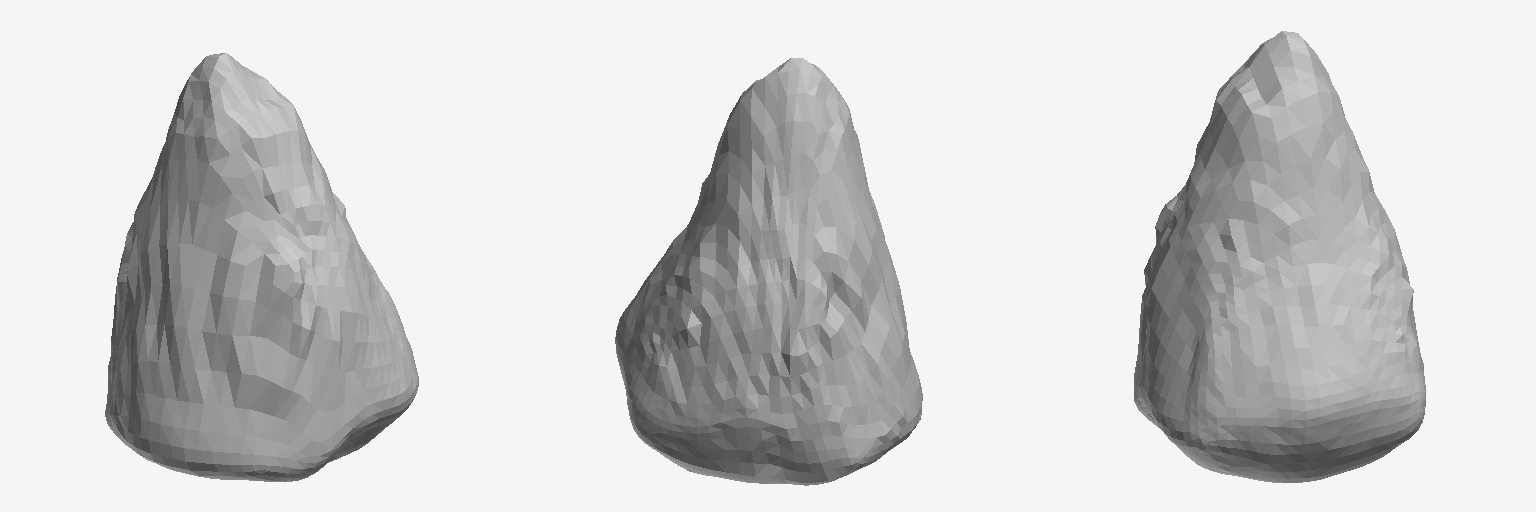
Rendered from rock4.obj.
3 views of the same model, side by side, from view 1: azimuth 30°, elevation 25°; view 2: azimuth 150°, elevation 25°; view 3: azimuth 270°, elevation 25° (orthographic).
Visible parts, largest first — view 1: rock_04.007; view 2: rock_04.007; view 3: rock_04.007.
Part boxes in pixels (left/top/right/bottom): rock_04.007: left=105, top=53, right=418, bottom=481; rock_04.007: left=615, top=58, right=922, bottom=485; rock_04.007: left=1134, top=31, right=1425, bottom=482.
Size of the model in its own units: 0.9719 by 1.43 by 0.9096.